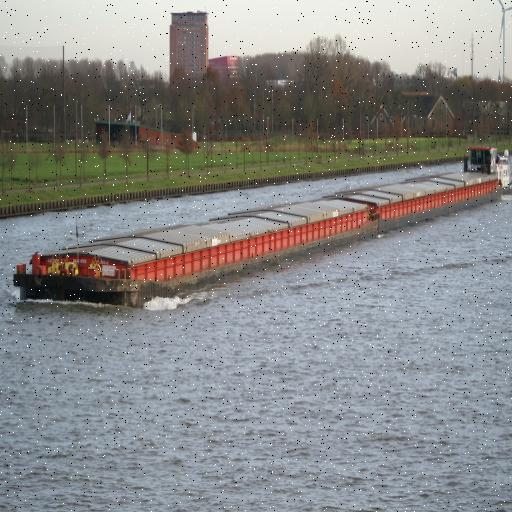tugboat: (460, 141, 512, 208)
